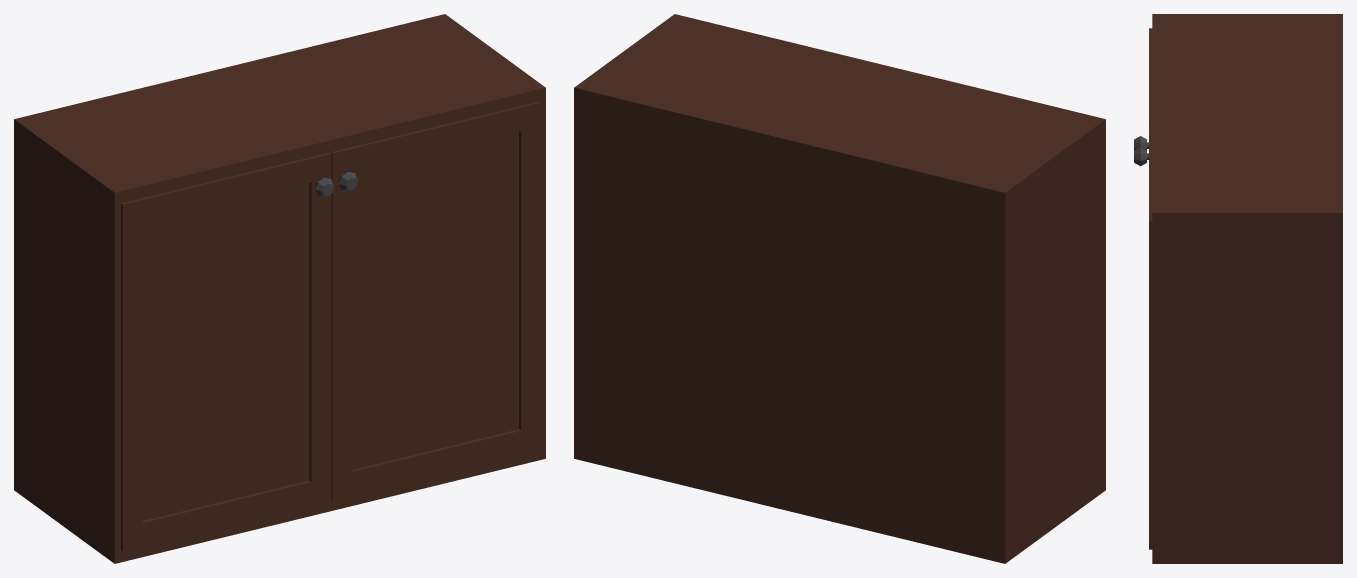
Rendered from DoubleDoorUpperCabinet1.glb.
3 renders of one model, left to right at view 1: azimuth 30°, elevation 25°; view 2: azimuth 150°, elevation 25°; view 3: azimuth 270°, elevation 25°, orthographic. The views are drawn at different scales.
Visible parts, largest first — view 1: DoubleDoorUpperCabinet1, DoorR1DoubleDoorUpperCabinet1, DoorL1DoubleDoorUpperCabinet1; view 2: DoubleDoorUpperCabinet1; view 3: DoubleDoorUpperCabinet1, DoorL1DoubleDoorUpperCabinet1, DoorR1DoubleDoorUpperCabinet1.
Part boxes in pixels (left/top/right/bottom): DoubleDoorUpperCabinet1: left=14, top=14, right=545, bottom=563; DoorR1DoubleDoorUpperCabinet1: left=121, top=152, right=333, bottom=551; DoorL1DoubleDoorUpperCabinet1: left=331, top=101, right=541, bottom=500; DoubleDoorUpperCabinet1: left=574, top=14, right=1105, bottom=563; DoubleDoorUpperCabinet1: left=1152, top=14, right=1342, bottom=563; DoorL1DoubleDoorUpperCabinet1: left=1134, top=125, right=1152, bottom=549; DoorR1DoubleDoorUpperCabinet1: left=1134, top=28, right=1152, bottom=150.
Size of the model in its own units: 0.9526 by 0.7835 by 0.4222.
